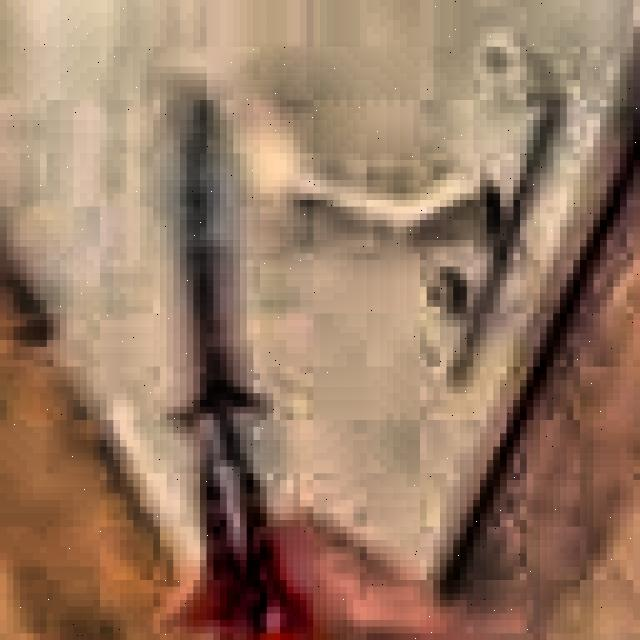knife: (173, 93, 300, 640)
